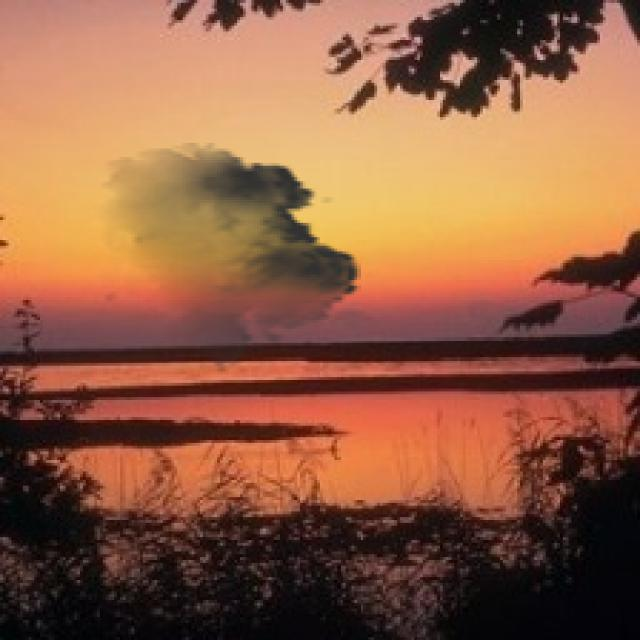smoke: (88, 143, 372, 374)
